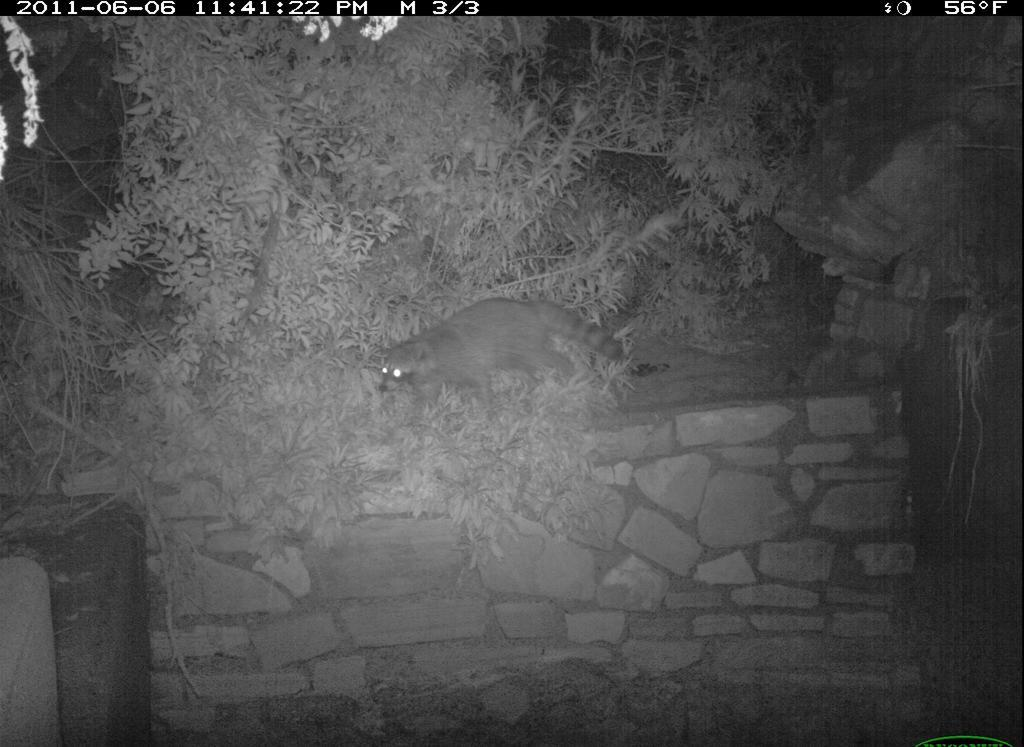raccoon: (370, 288, 638, 419)
